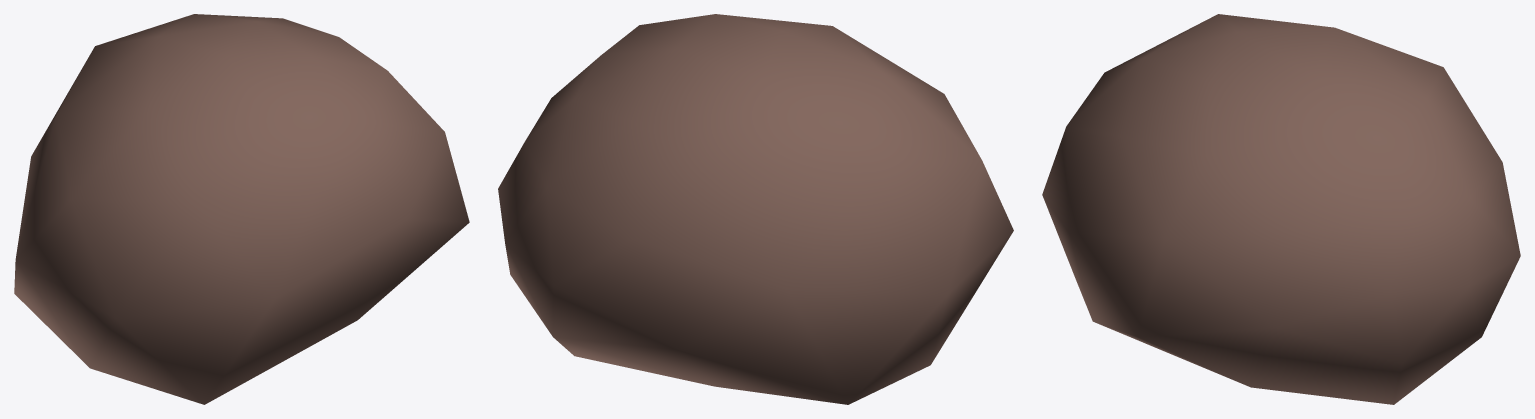
Rendered from SM_SingleBoulder.fbx.
3 views of the same model, side by side, from view 1: azimuth 30°, elevation 25°; view 2: azimuth 150°, elevation 25°; view 3: azimuth 270°, elevation 25° (orthographic). The views are drawn at different scales.
Visible parts, largest first — view 1: SingleBoulderMesh; view 2: SingleBoulderMesh; view 3: SingleBoulderMesh.
Part boxes in pixels (x1,y1,x2,y2): SingleBoulderMesh: (14, 14, 469, 404); SingleBoulderMesh: (498, 14, 1013, 404); SingleBoulderMesh: (1042, 14, 1520, 404).
Size of the model in its own units: 165 by 111 by 157.
